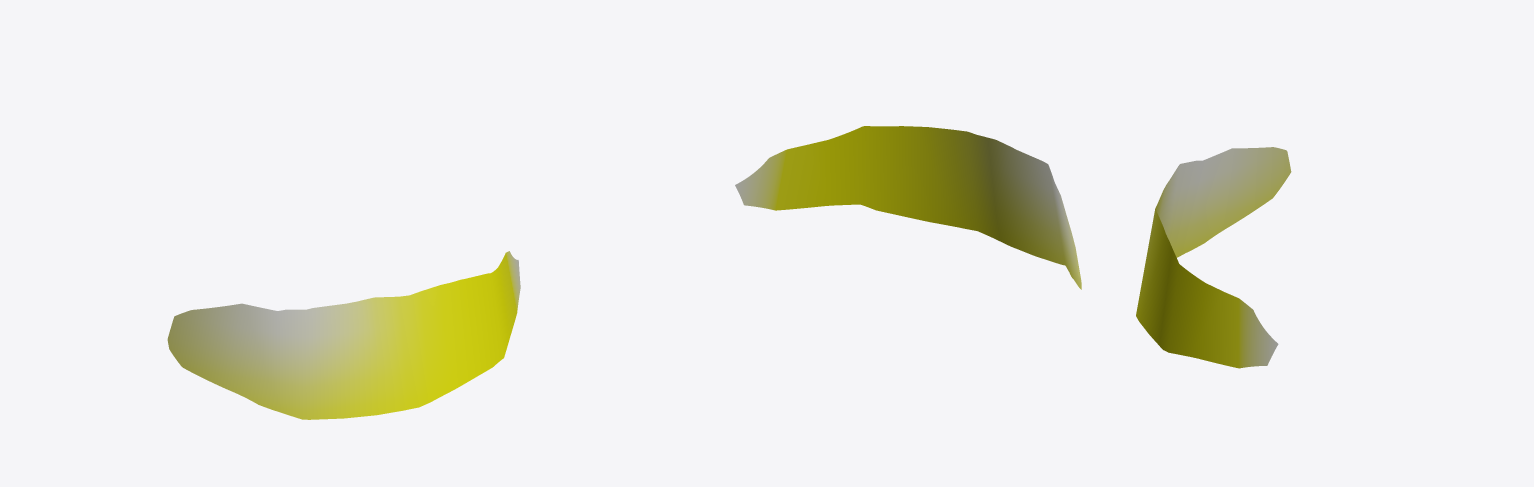
The model's file is GW_qifen_001.FBX.
3 views of the same model, side by side, from view 1: azimuth 30°, elevation 25°; view 2: azimuth 150°, elevation 25°; view 3: azimuth 270°, elevation 25° (orthographic). The views are drawn at different scales.
Parts seen in each view (by area): view 1: GW_qifen_001; view 2: GW_qifen_001; view 3: GW_qifen_001.
Boxes of the visible parts, x1=… form: GW_qifen_001: x1=167, y1=251, x2=520, y2=419; GW_qifen_001: x1=735, y1=126, x2=1081, y2=289; GW_qifen_001: x1=1136, y1=147, x2=1291, y2=368.
Size of the model in its own units: 2218 by 1290 by 1705.
Materials: 1 (1 with a texture image).
